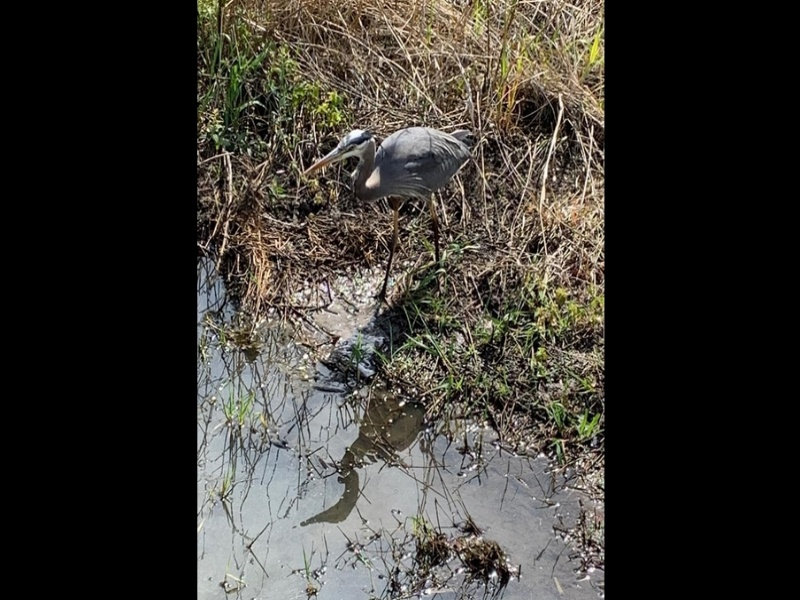heron: (303, 127, 474, 316)
